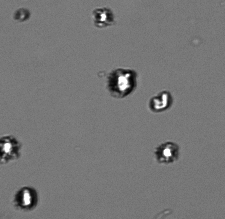Dead Cell: (11, 7, 31, 22)
Living Cell: (106, 68, 138, 97), (148, 88, 175, 112), (14, 185, 39, 210), (1, 133, 21, 164), (154, 140, 178, 164), (93, 6, 111, 27)
